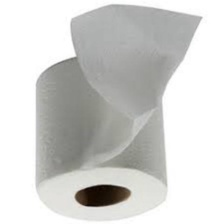tissue: (27, 0, 209, 224)
